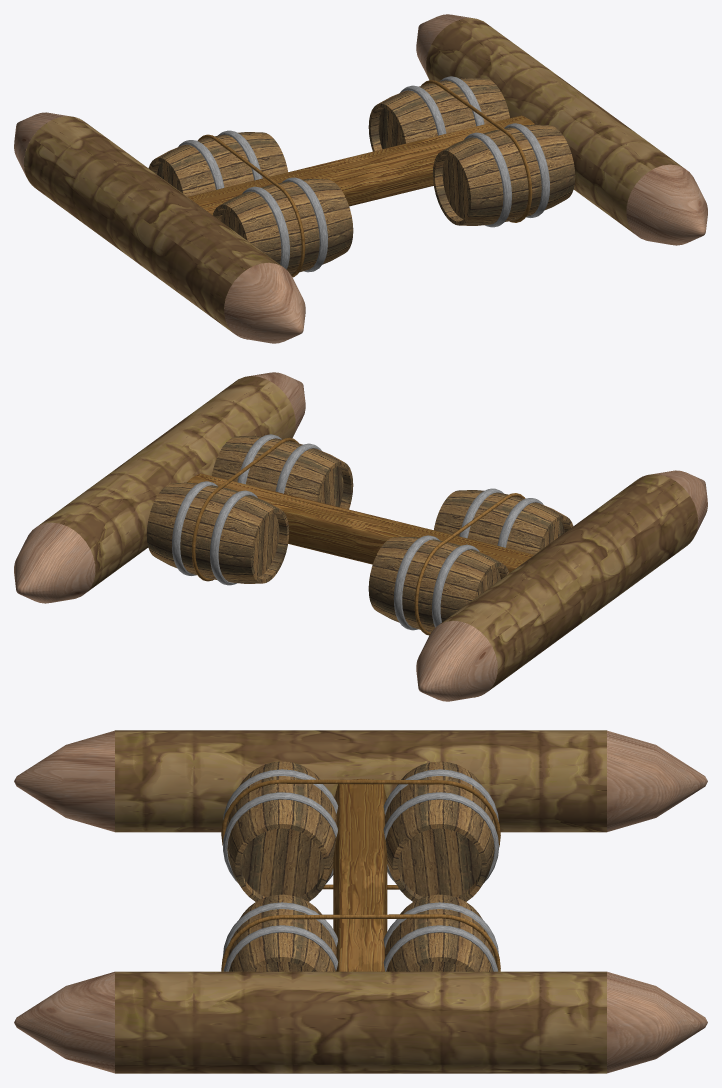
File: Raft Core .fbx
3 renders of one model, top to bottom at view 1: azimuth 30°, elevation 25°; view 2: azimuth 150°, elevation 25°; view 3: azimuth 270°, elevation 25°, orthographic. The views are drawn at different scales.
Visible parts, largest first — view 1: Main log.009, Main log.005, Cylinder.002, Cylinder.003, Support log.002, Cylinder.012, Cylinder.001, rope 01.003, rope 01.004; view 2: Main log.009, Main log.005, Cylinder.012, Cylinder.001, Support log.002, Cylinder.002, Cylinder.003, rope 01.004, rope 01.003; view 3: Main log.005, Main log.009, Cylinder.001, Cylinder.003, Support log.002, Cylinder.012, Cylinder.002, rope 01.004, rope 01.003.
Part boxes in pixels (x1,y1,x2,y2): Main log.009: (14,112,305,343); Main log.005: (416,14,707,245); Cylinder.002: (432,123,575,227); Cylinder.003: (213,177,353,274); Support log.002: (188,115,534,214); Cylinder.012: (368,76,509,151); Cylinder.001: (148,130,287,196); rope 01.003: (421,80,532,222); rope 01.004: (198,134,305,277); Main log.009: (416,470,707,701); Main log.005: (14,372,305,603); Cylinder.012: (146,481,289,585); Cylinder.001: (368,535,508,632); Support log.002: (187,473,533,572); Cylinder.002: (212,434,353,509); Cylinder.003: (434,488,573,554); rope 01.004: (414,493,525,635); rope 01.003: (191,437,298,581); Main log.005: (14,971,707,1073); Main log.009: (14,730,707,832); Cylinder.001: (383,761,499,901); Cylinder.003: (223,761,338,901); Support log.002: (333,778,387,971); Cylinder.012: (383,894,498,971); Cylinder.002: (222,894,338,971); rope 01.004: (221,779,500,889); rope 01.003: (221,914,500,971).
Size of the model in its own units: 6.83 by 1.22 by 7.05.
6 materials, 6 textured.
